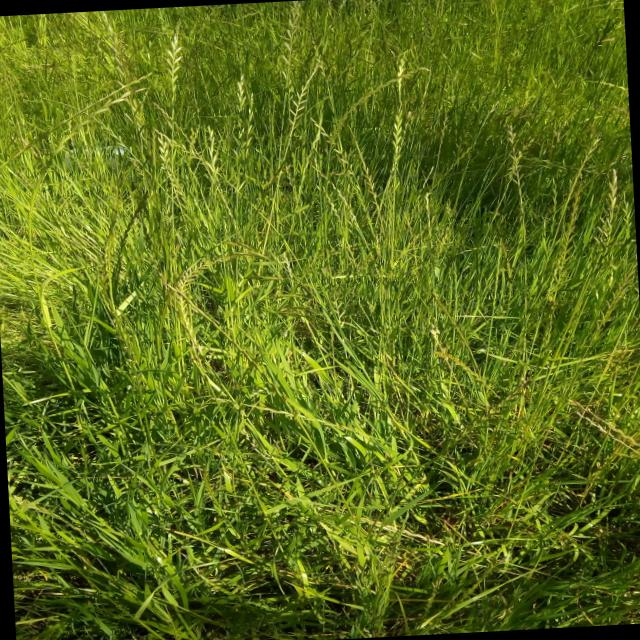Lolium: (0, 0, 640, 640), (339, 54, 453, 378)
